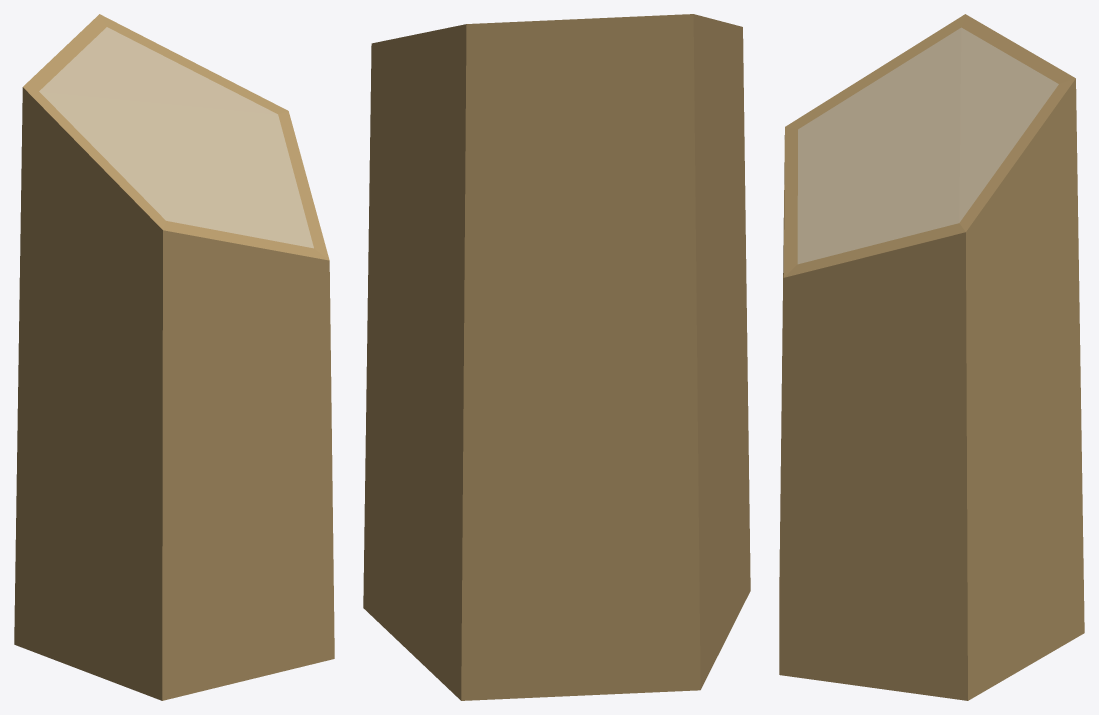
The model's file is Thuja_Stump_02.fbx.
The picture shows the model from 3 angles, left to right: view 1: azimuth 30°, elevation 25°; view 2: azimuth 150°, elevation 25°; view 3: azimuth 270°, elevation 25°; orthographic projection. The views are drawn at different scales.
Parts seen in each view (by area): view 1: Thuja_Stump_02; view 2: Thuja_Stump_02; view 3: Thuja_Stump_02.
Part boxes in pixels (x1=…): Thuja_Stump_02: x1=14, y1=14, x2=334, y2=700; Thuja_Stump_02: x1=363, y1=14, x2=750, y2=700; Thuja_Stump_02: x1=779, y1=14, x2=1084, y2=700.
Size of the model in its own units: 25.41 by 48.45 by 24.17.
